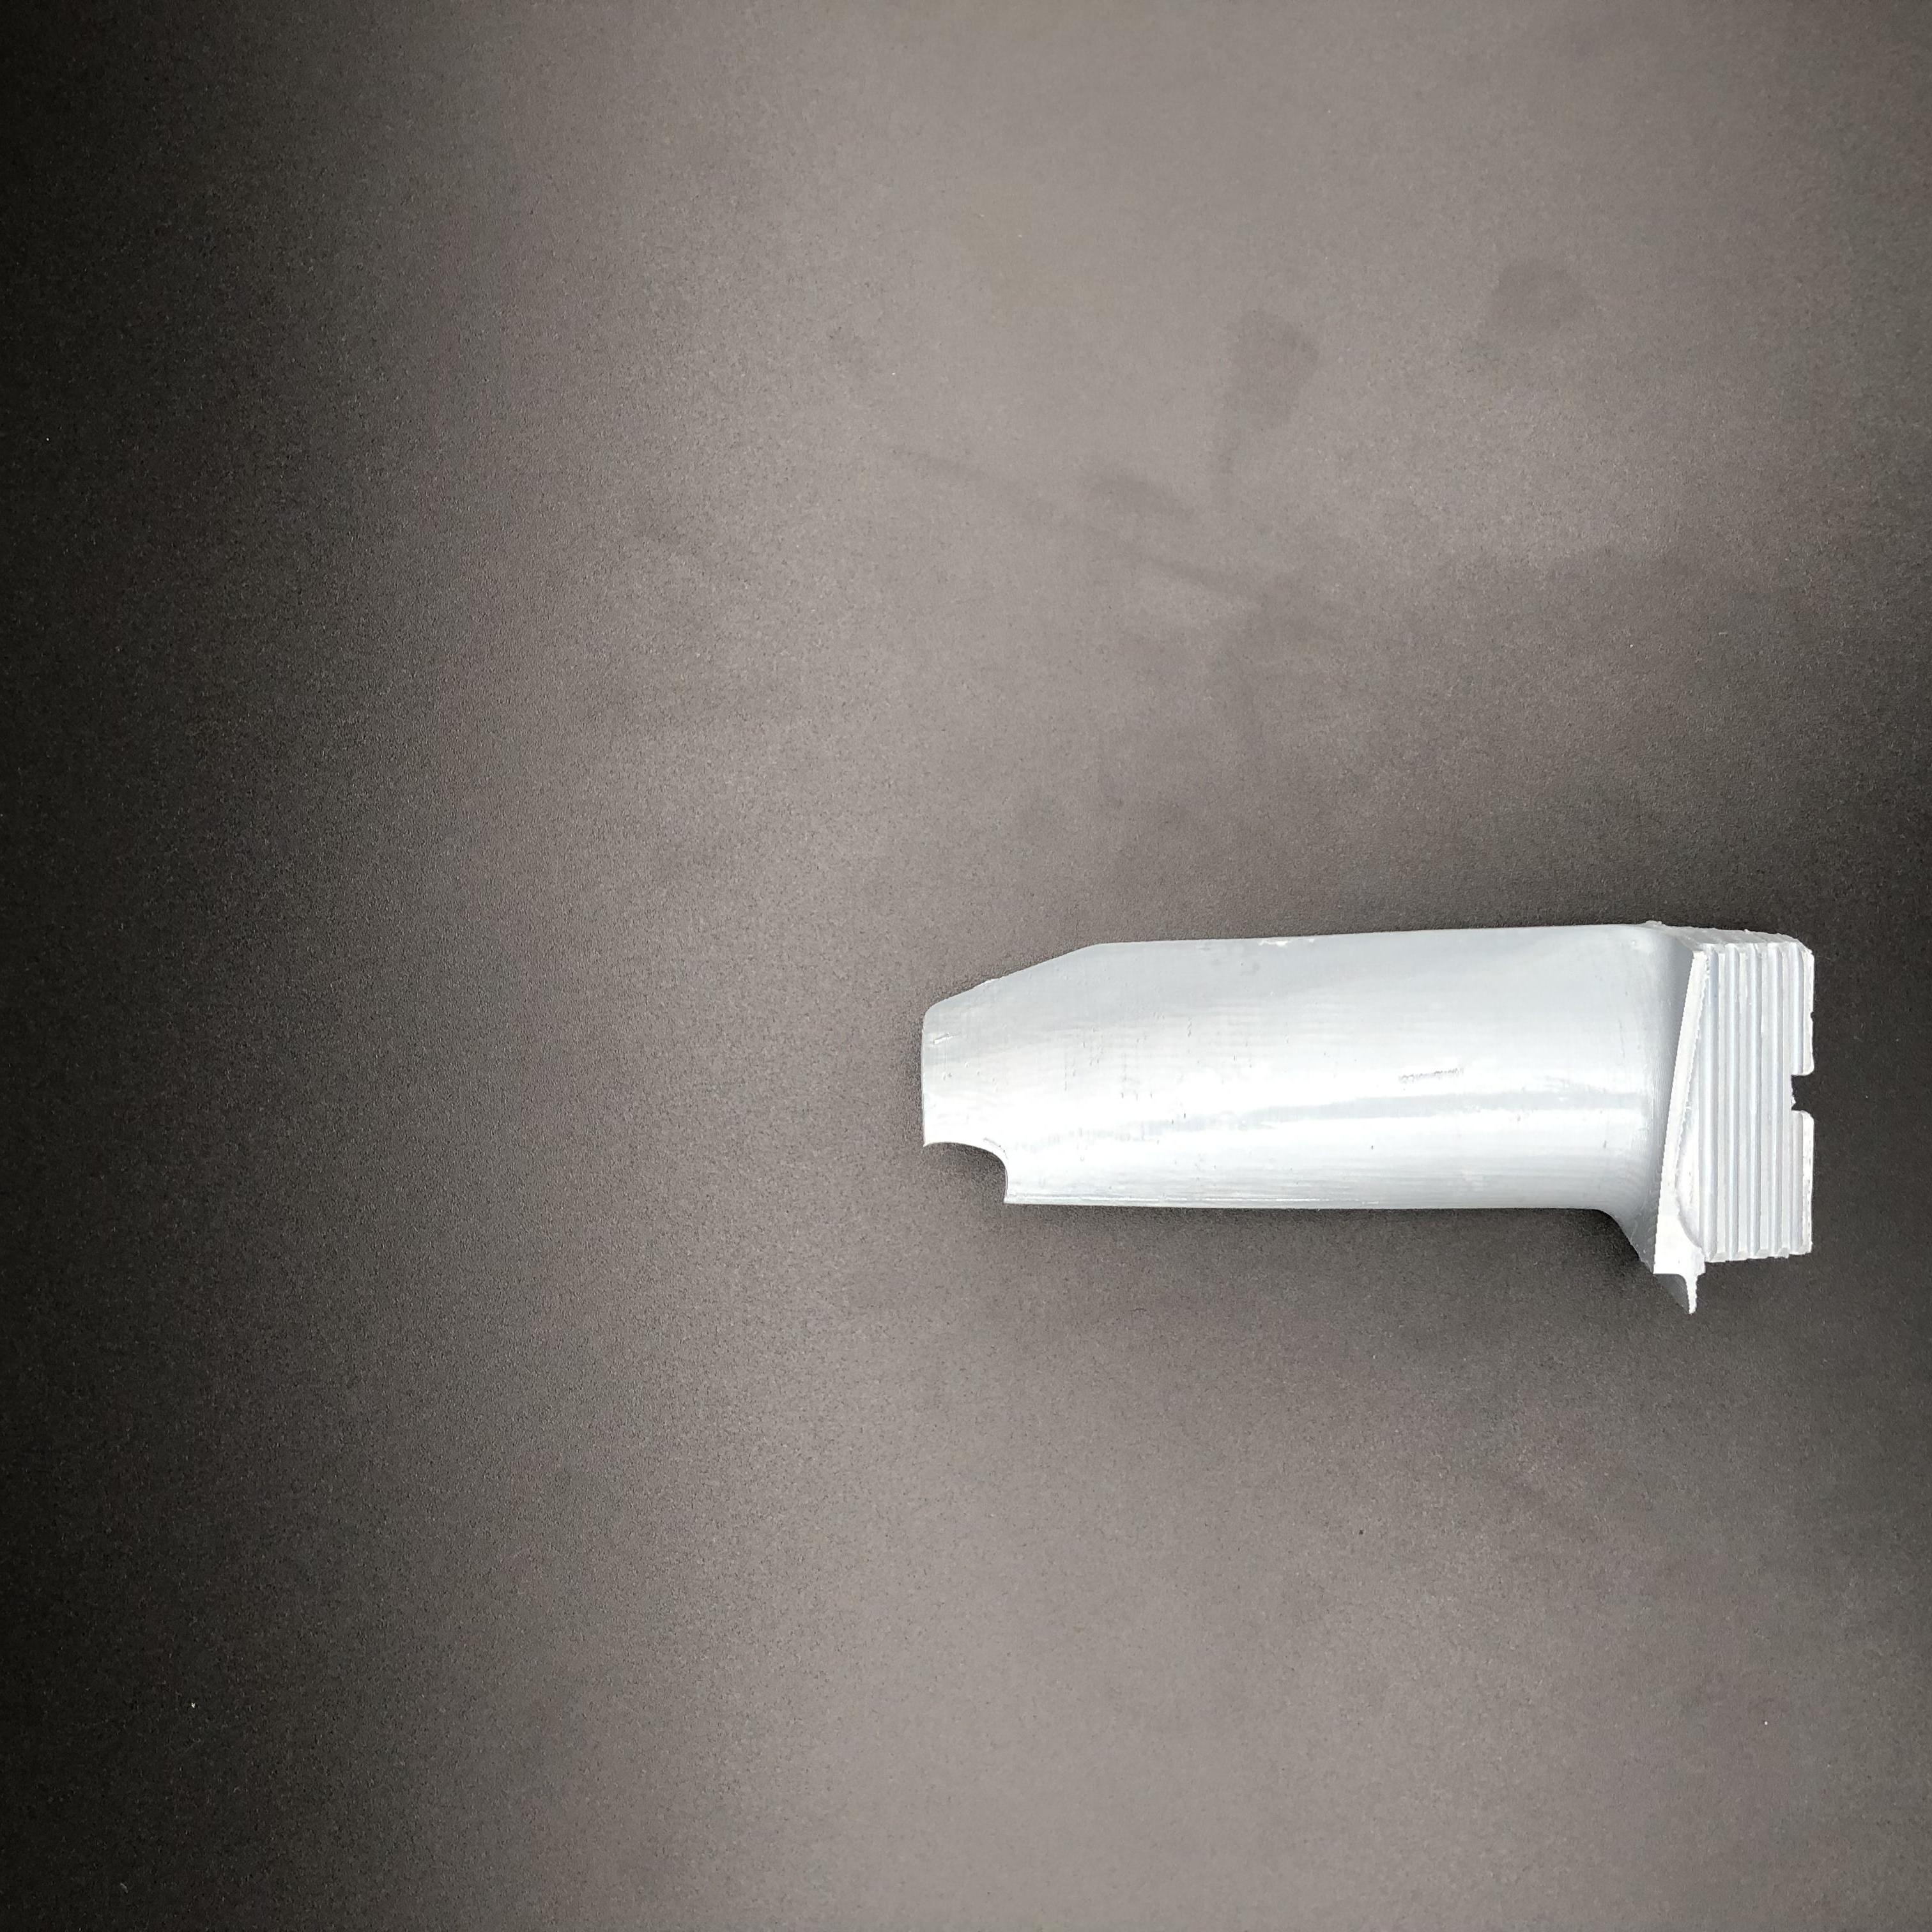fracture: (922, 1134, 1028, 1207)
